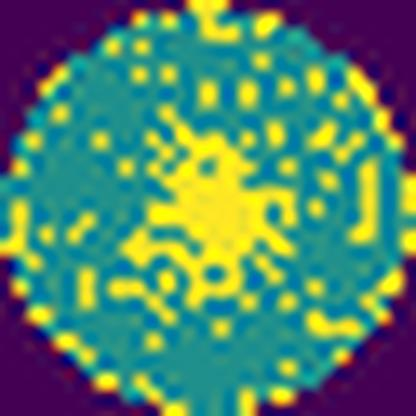Center: (124, 101, 303, 310)
